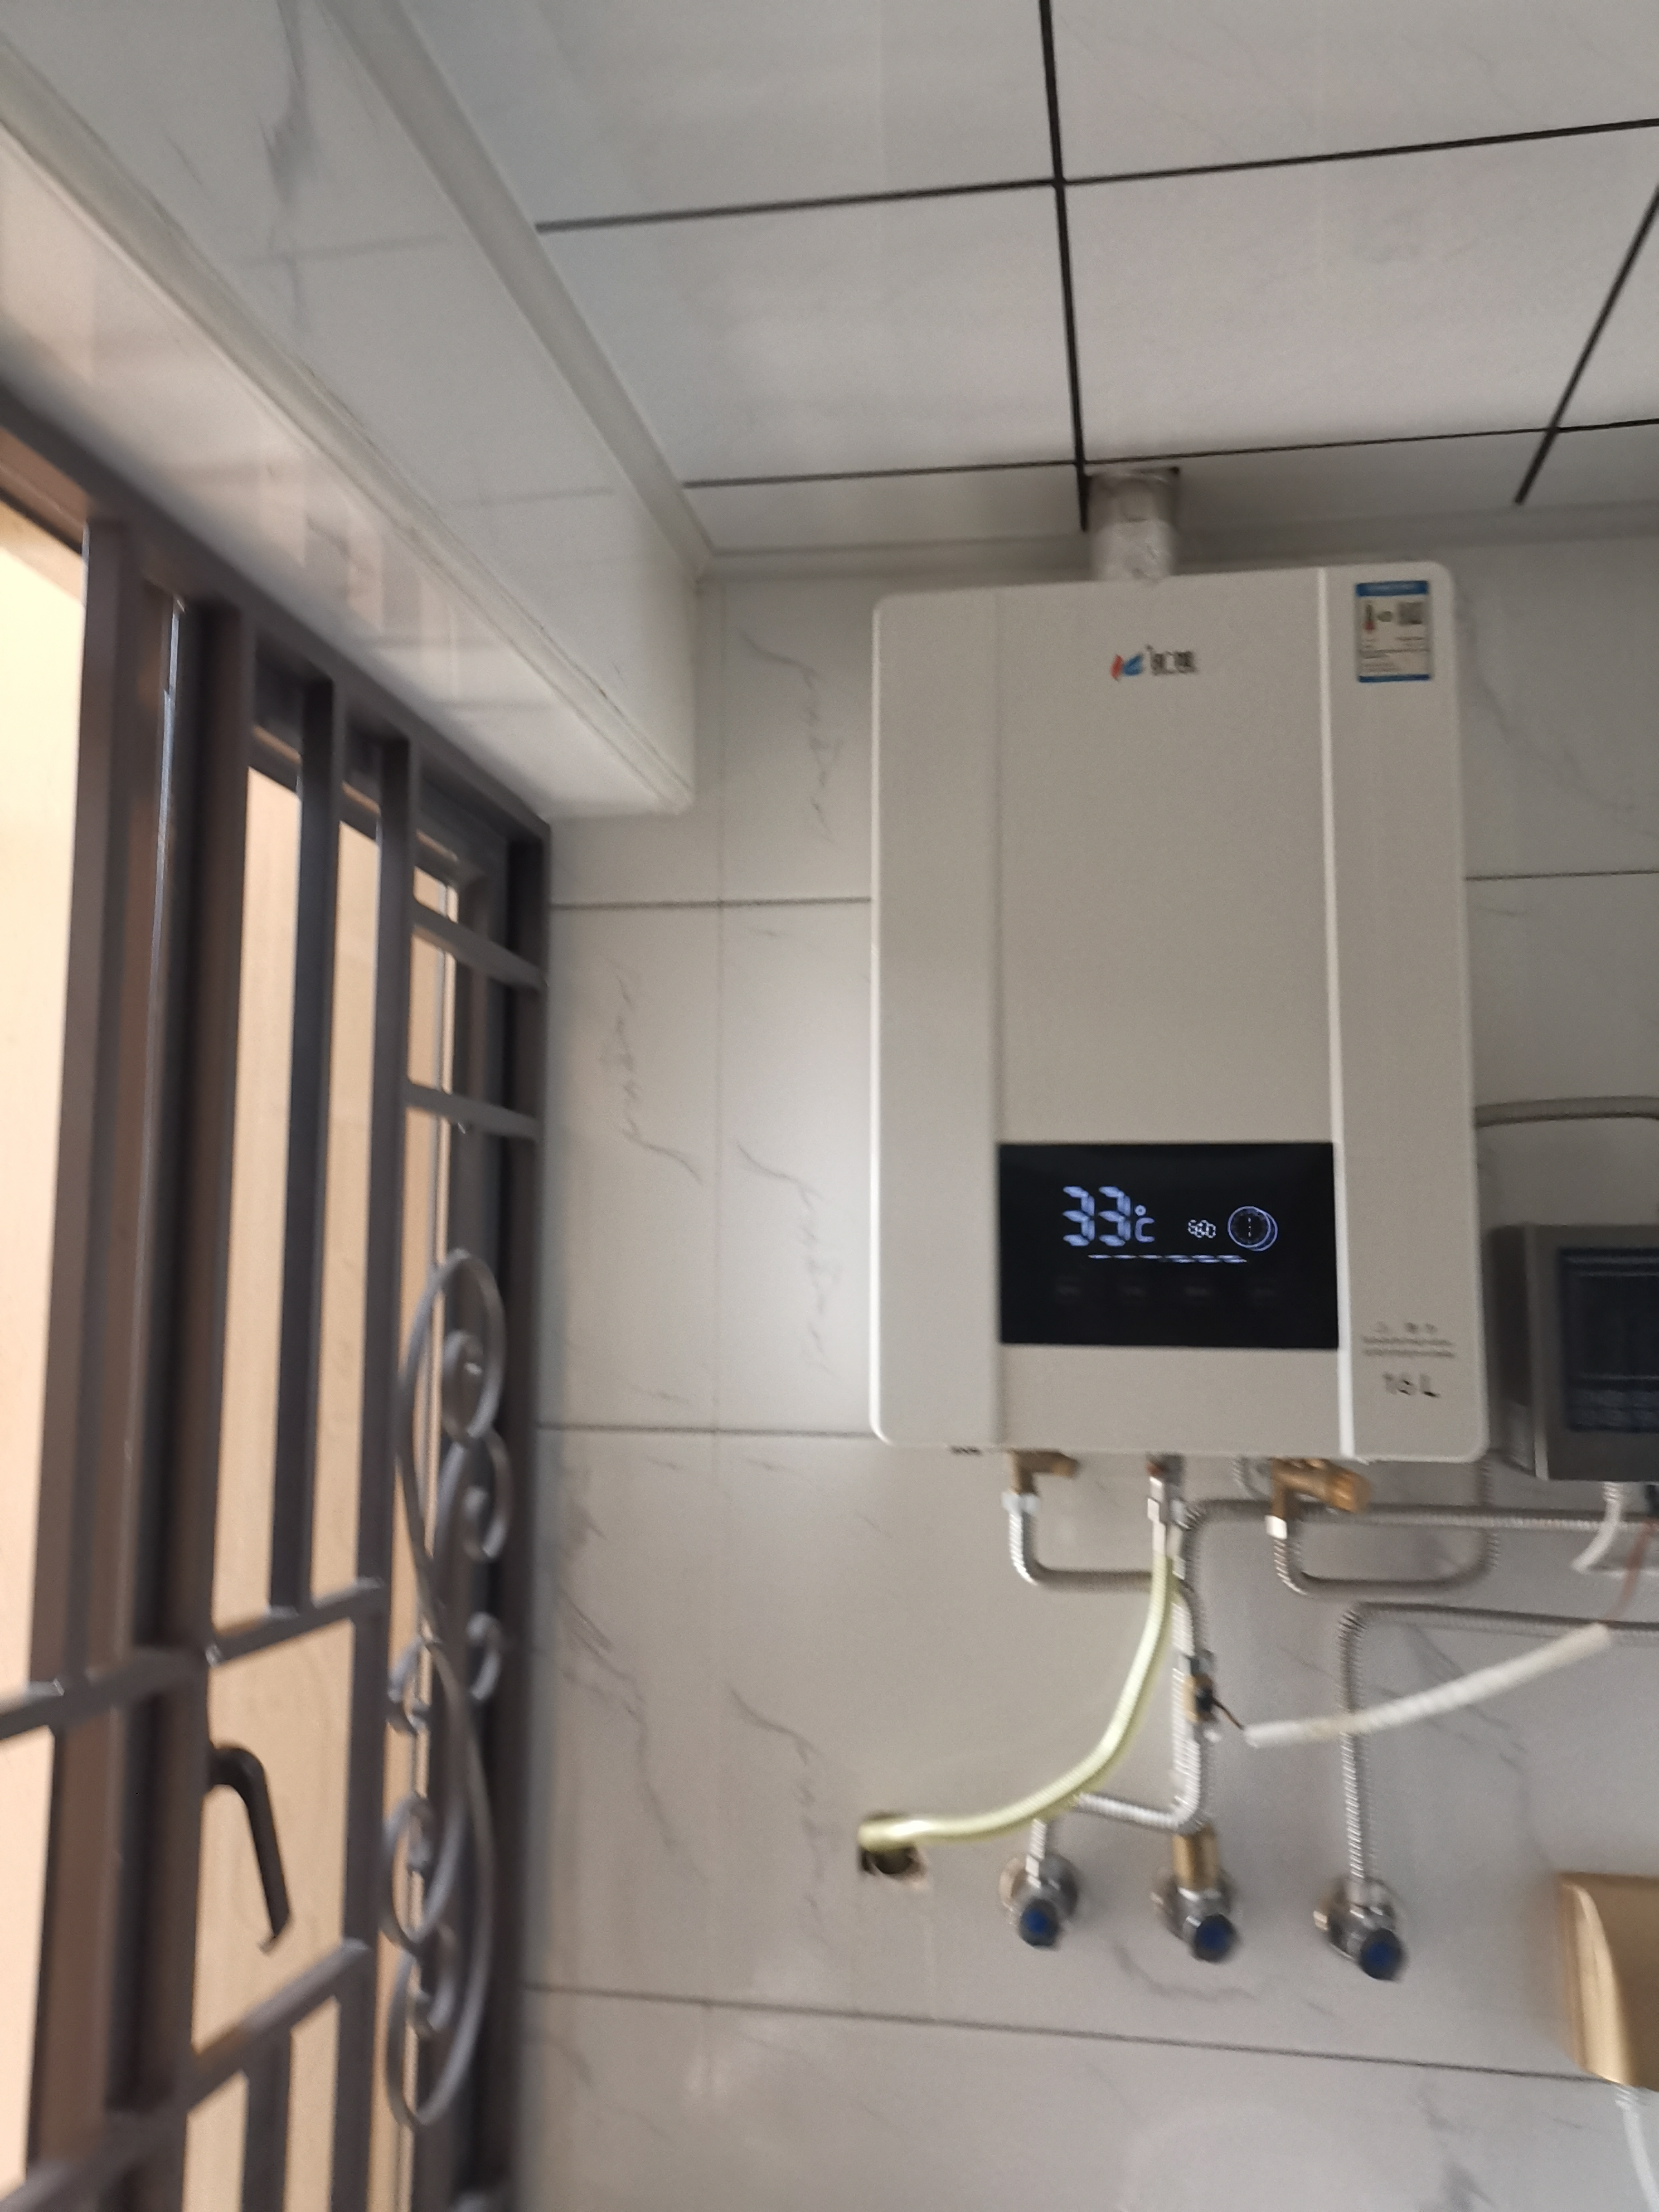loudou: (1089, 639, 1236, 691)
